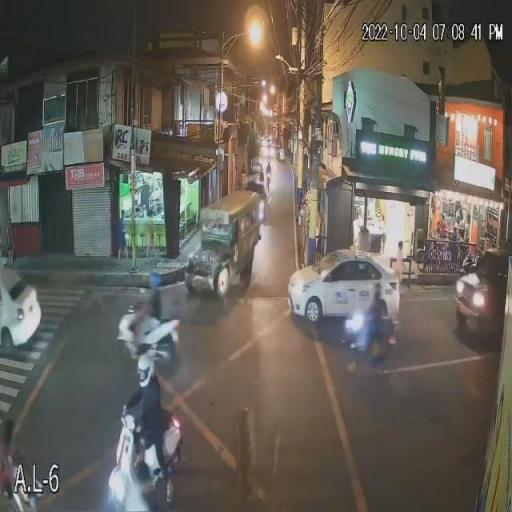helmet: (134, 355, 157, 391), (146, 272, 164, 292)
motorcycle: (100, 438, 198, 511), (107, 302, 187, 356)
rider: (136, 393, 178, 504), (144, 298, 163, 343)
